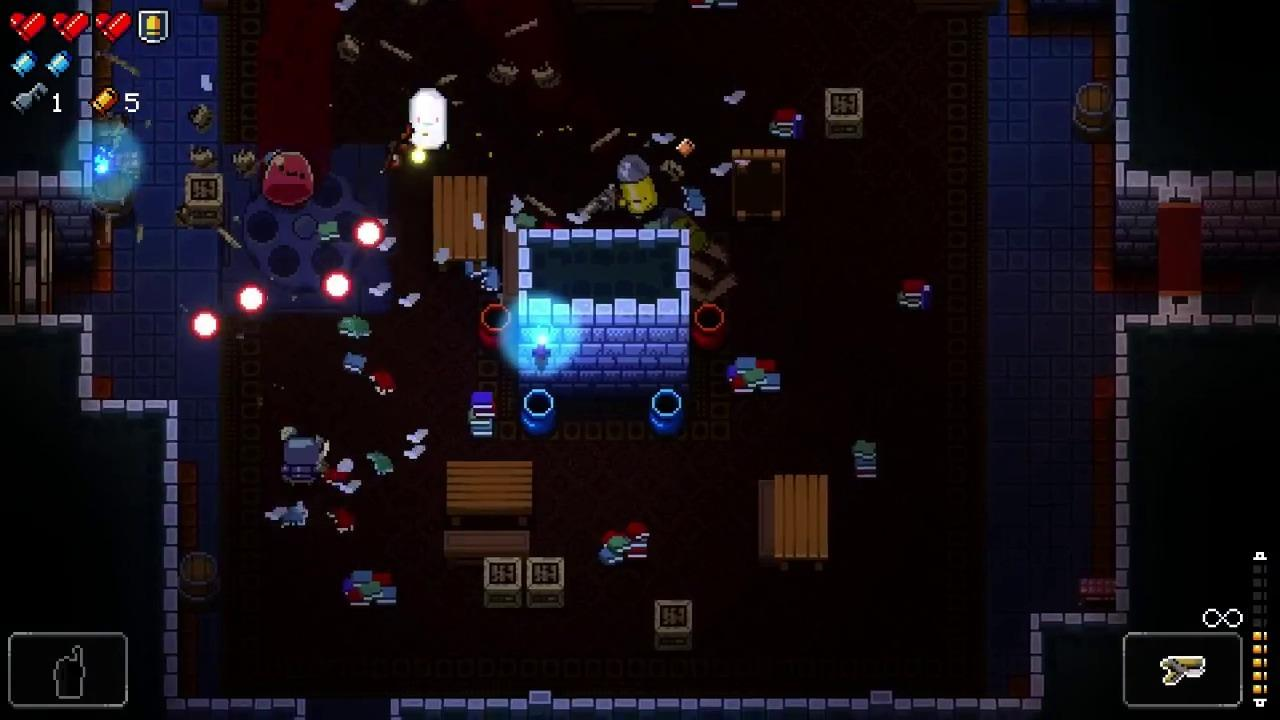blobulon_l: (262, 151, 314, 206)
blocked_door: (1160, 186, 1203, 315)
bullet: (191, 310, 219, 339), (323, 272, 351, 299), (356, 220, 383, 248), (238, 285, 265, 312)
bullet_kin: (618, 154, 659, 212)
hollowpoint: (410, 88, 448, 150)
locked_door: (6, 201, 53, 315)
player: (282, 437, 320, 487)
table: (445, 460, 532, 525), (433, 175, 487, 273), (774, 474, 827, 572), (731, 149, 785, 221)
teleporter: (221, 142, 390, 315)
